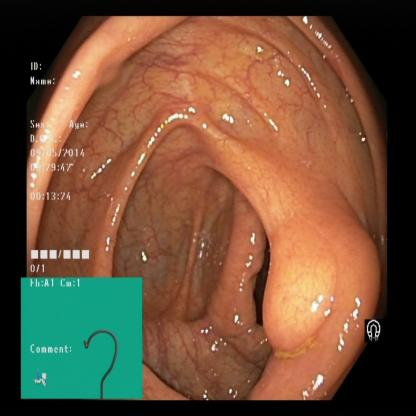Labels: (27, 51, 108, 275), (22, 275, 144, 398)
Polyps: (239, 191, 340, 364)
